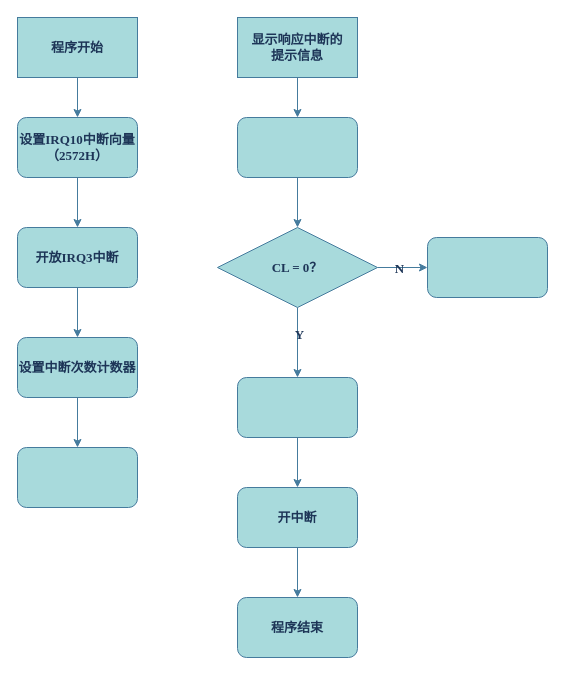
Image size: 565x675. Some labels were removed from this diagram. The centre of each missing label's shape, as x and y in pixels:
"中断结束" belongs at point 487,267.
"关闭中断IRQ3" belongs at point 297,407.
"发出中断结束命令 计数器CL减1" belongs at point 297,147.
"循环等待" belongs at point 77,477.
